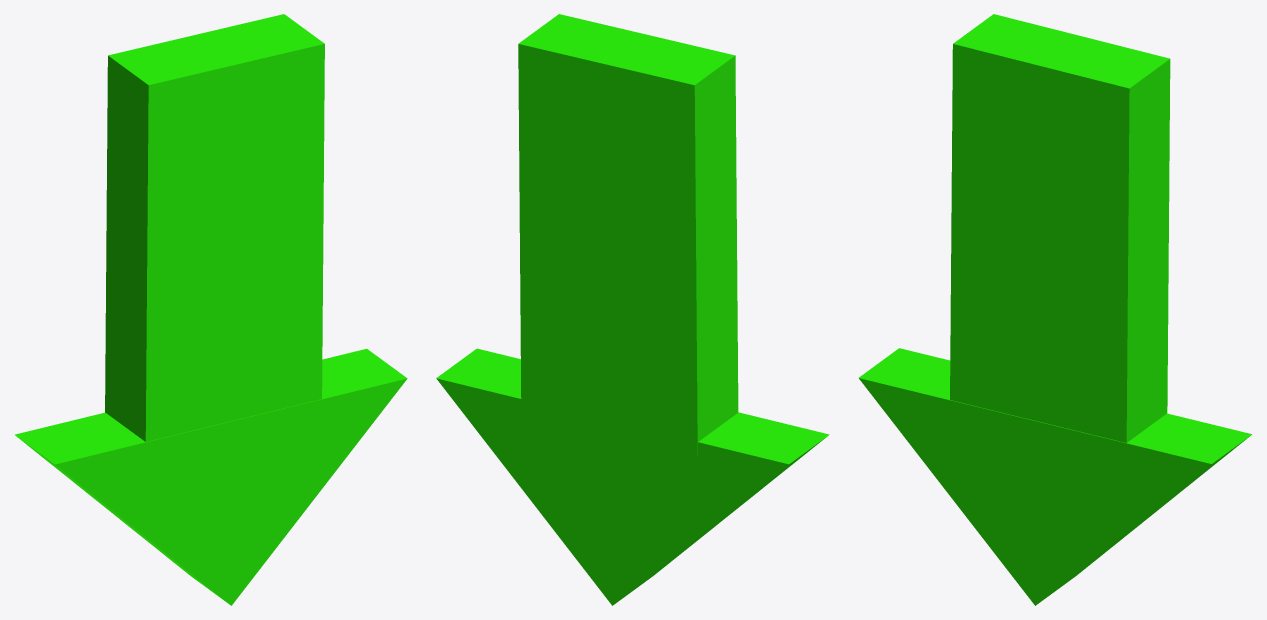
File: arrow.obj
The picture shows the model from 3 angles, left to right: view 1: azimuth 30°, elevation 25°; view 2: azimuth 150°, elevation 25°; view 3: azimuth 330°, elevation 25°; orthographic projection.
Parts seen in each view (by area): view 1: Box, Box1; view 2: Box, Box1; view 3: Box, Box1.
Part boxes in pixels (bbox=[...]): Box: bbox=[105, 14, 324, 441]; Box1: bbox=[14, 348, 407, 605]; Box: bbox=[518, 14, 738, 455]; Box1: bbox=[436, 348, 829, 605]; Box: bbox=[950, 14, 1170, 442]; Box1: bbox=[859, 348, 1251, 605].
Bounding box in the file's own units: 1 × 1.47 × 0.2016.
